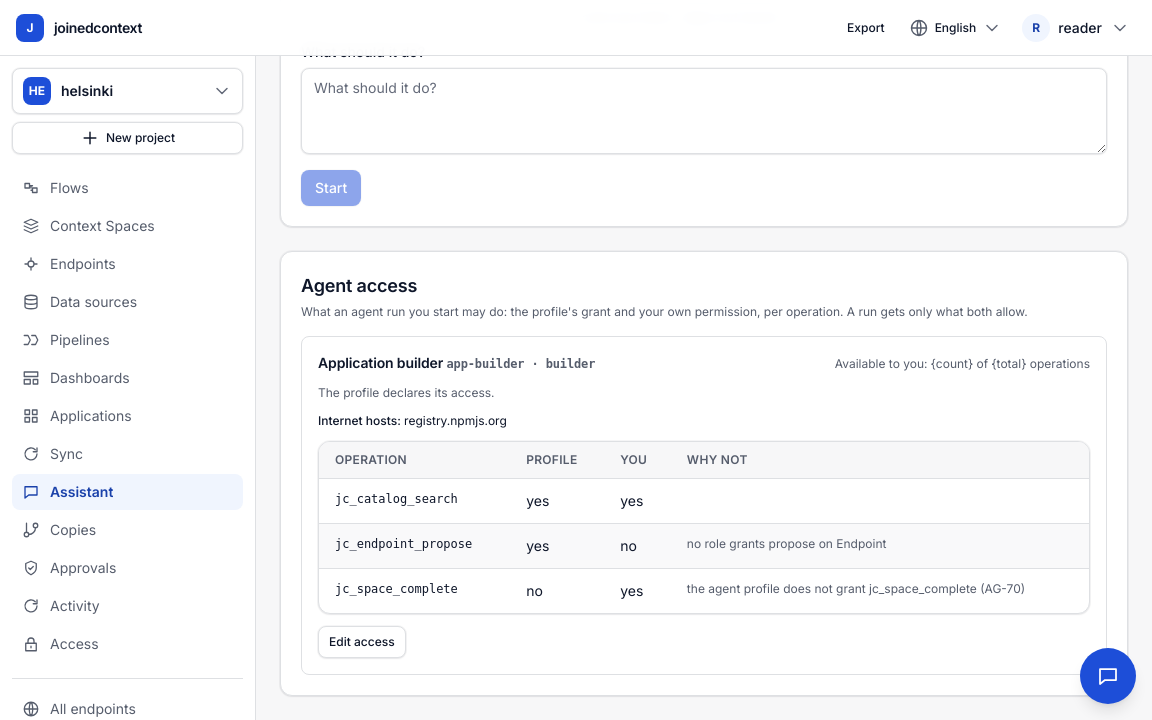
Agent access on the Assistant page (UI-56) › proposes an edited access block as a change on the profile, without its status
This screenshot has width=1152, height=720.
(page scrolled)
Click the button "Edit access". click: click(362, 642)
box: top-left (318, 626), bottom-right (406, 658)
(page scrolled)
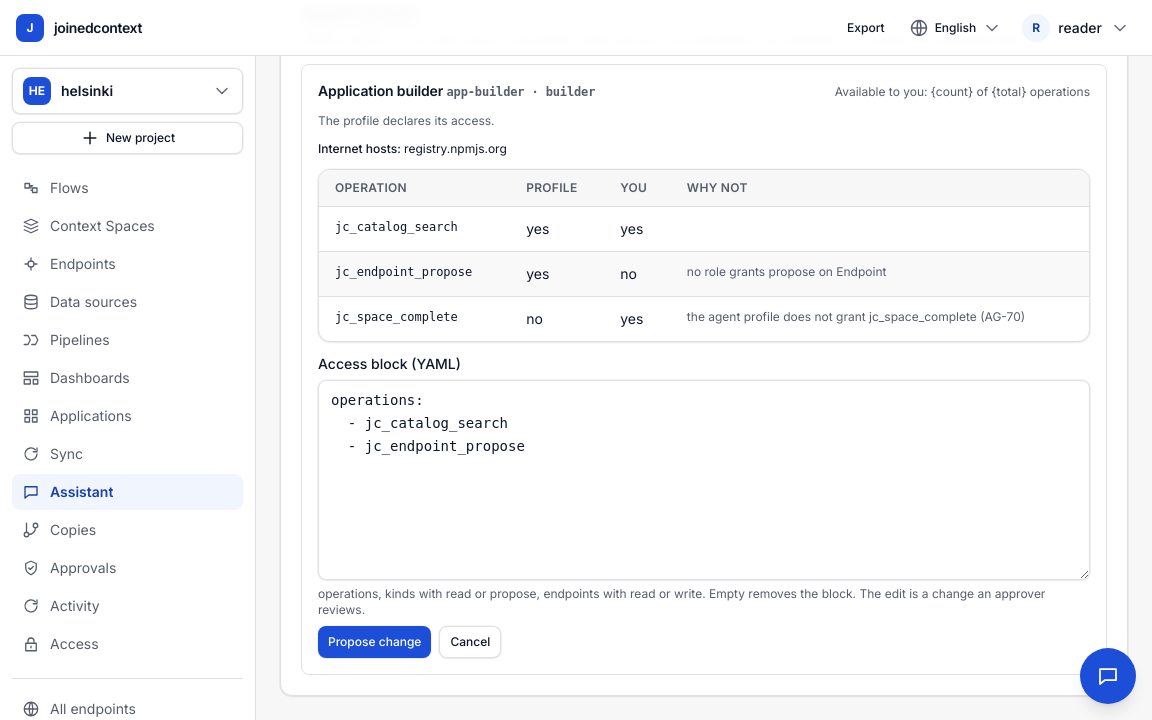
Replace the text in the text box labelled "Access block (YAML)" with "operations: [ [jc_catalog_search]". click: (704, 480)
box: top-left (318, 380), bottom-right (1090, 580)
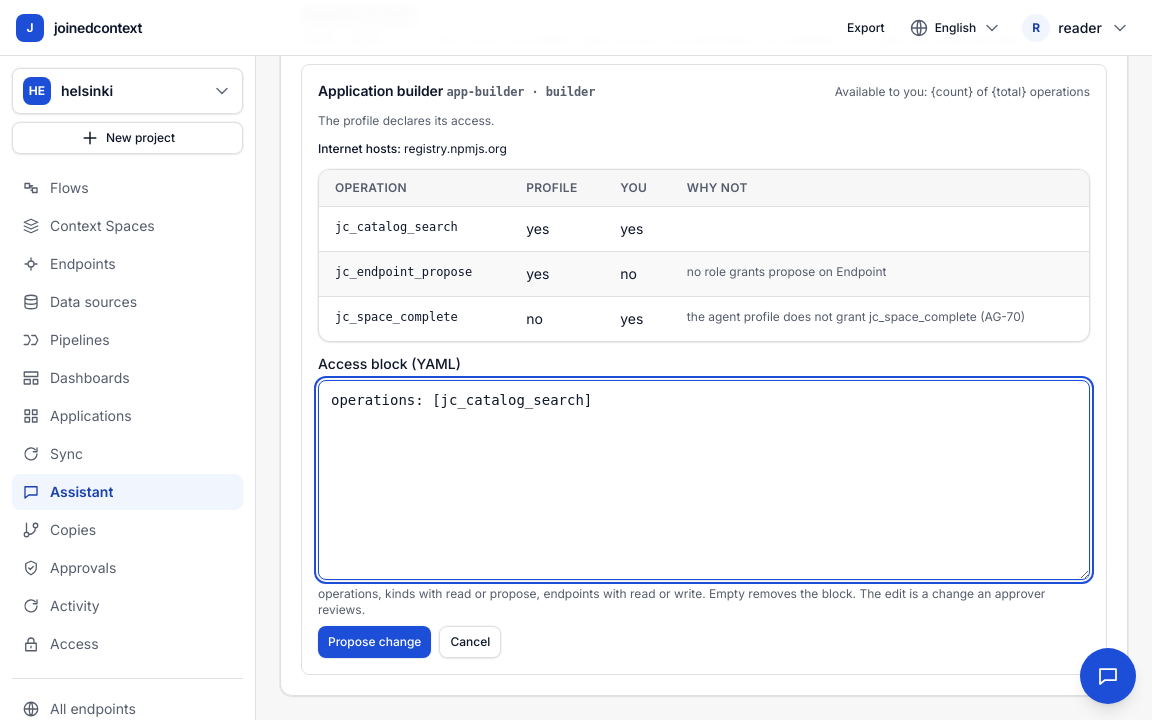
Click the button "Propose change". click: click(375, 642)
box: top-left (318, 626), bottom-right (431, 658)
(page scrolled)
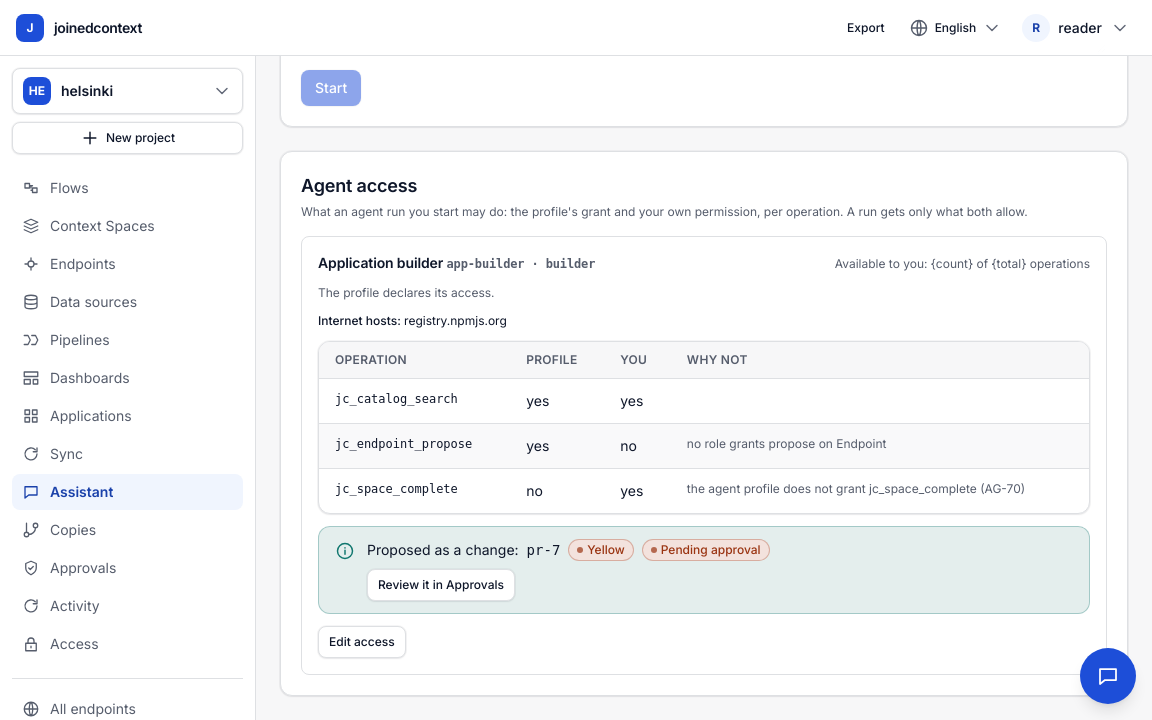
Now the text "pr-7" is shown, box top-left (527, 540), bottom-right (560, 560)
